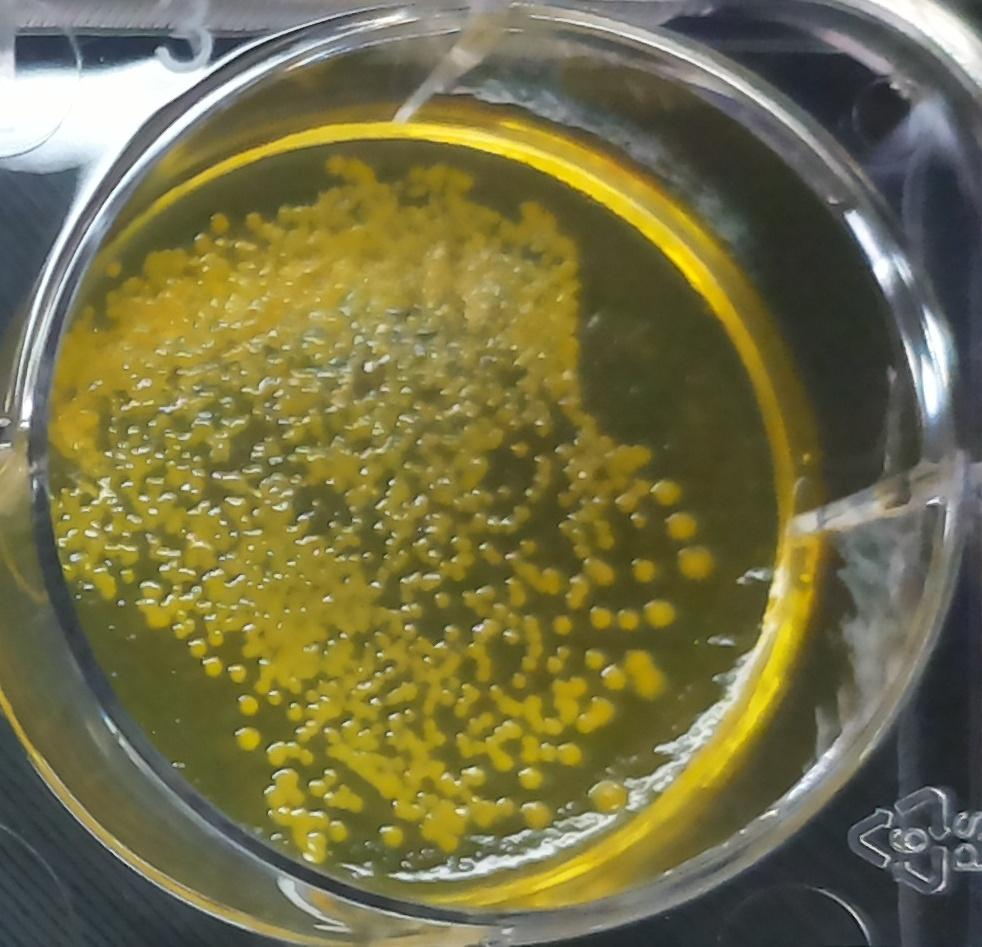vharveyi: (621, 644, 672, 703), (673, 540, 717, 585), (661, 504, 699, 542), (641, 594, 679, 632), (231, 718, 265, 756), (628, 552, 662, 586), (652, 474, 684, 509), (233, 688, 264, 720), (615, 605, 644, 638), (585, 600, 615, 631)
